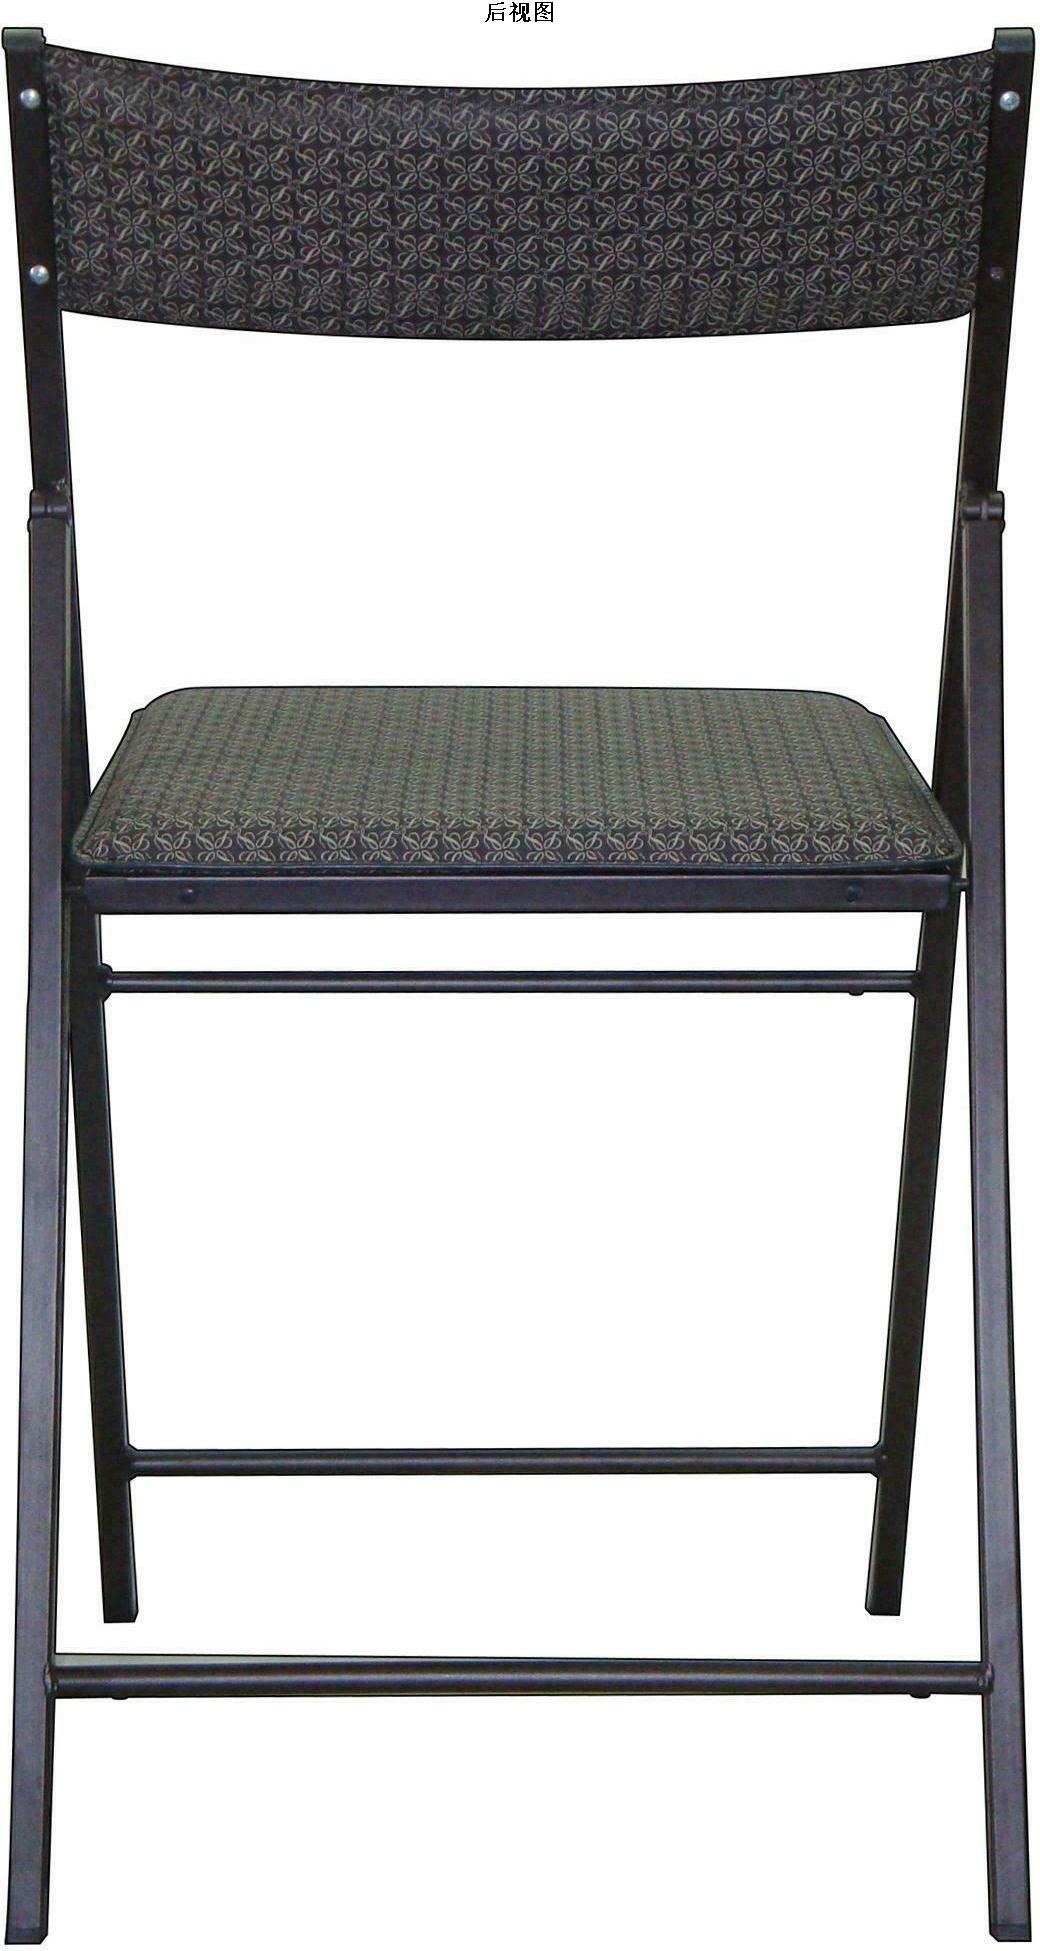obstacle: (6, 28, 1034, 1942)
